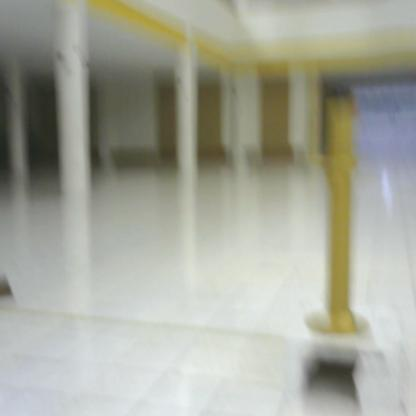pole: (302, 92, 376, 349)
